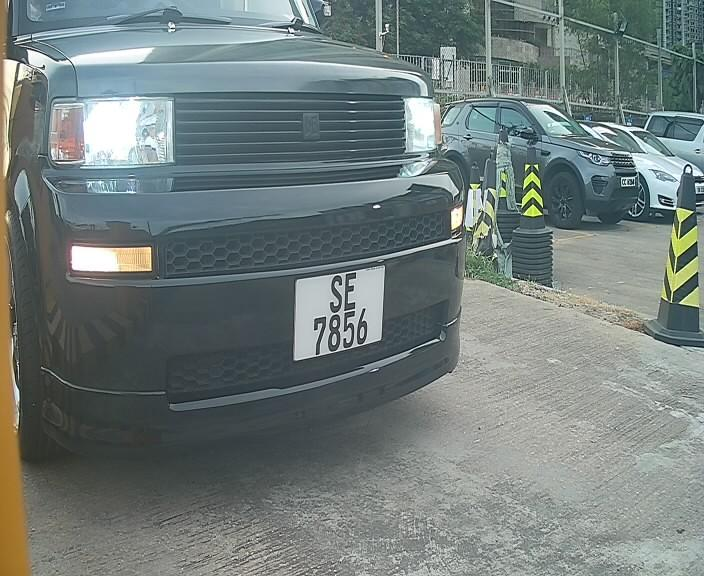privatecar: (10, 11, 481, 433)
